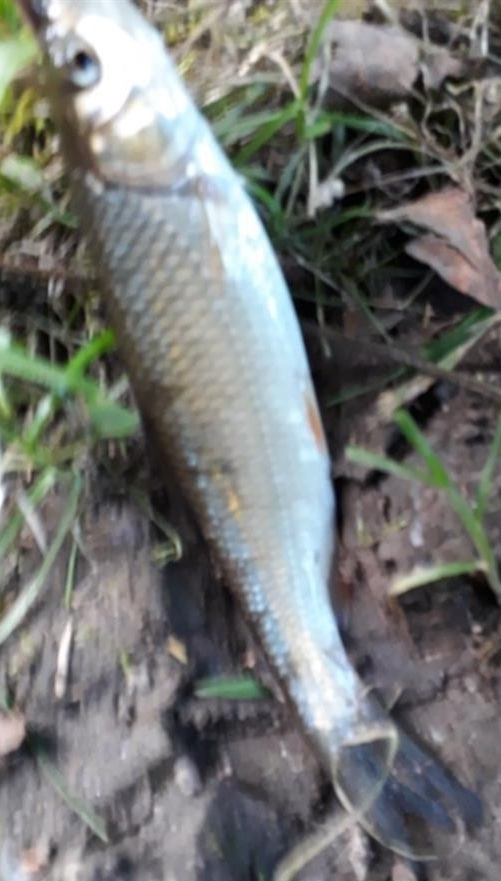Leuciscus cephalus: (20, 1, 481, 861)
